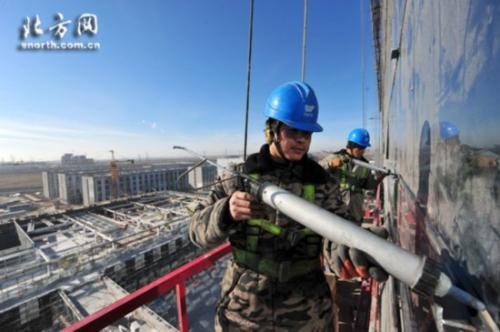hard-hat: (263, 79, 322, 132), (347, 128, 371, 148)
person: (188, 80, 354, 332), (319, 128, 388, 226)
ppe-suit: (188, 143, 350, 331)
